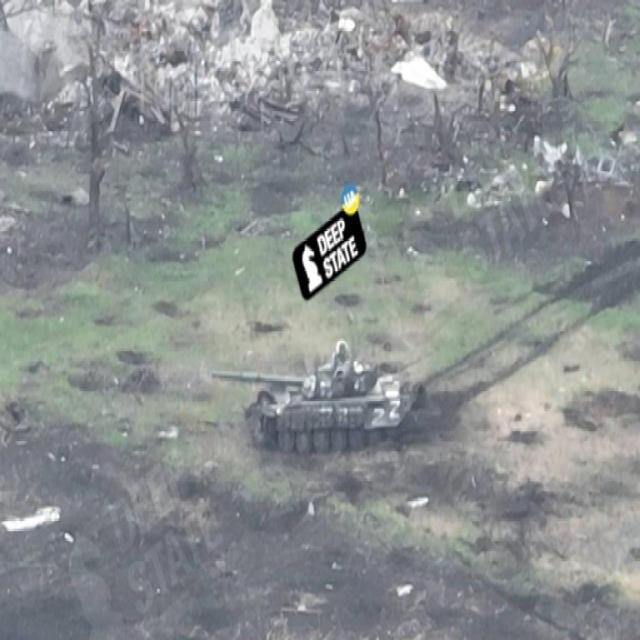TANK: (210, 331, 414, 453)
